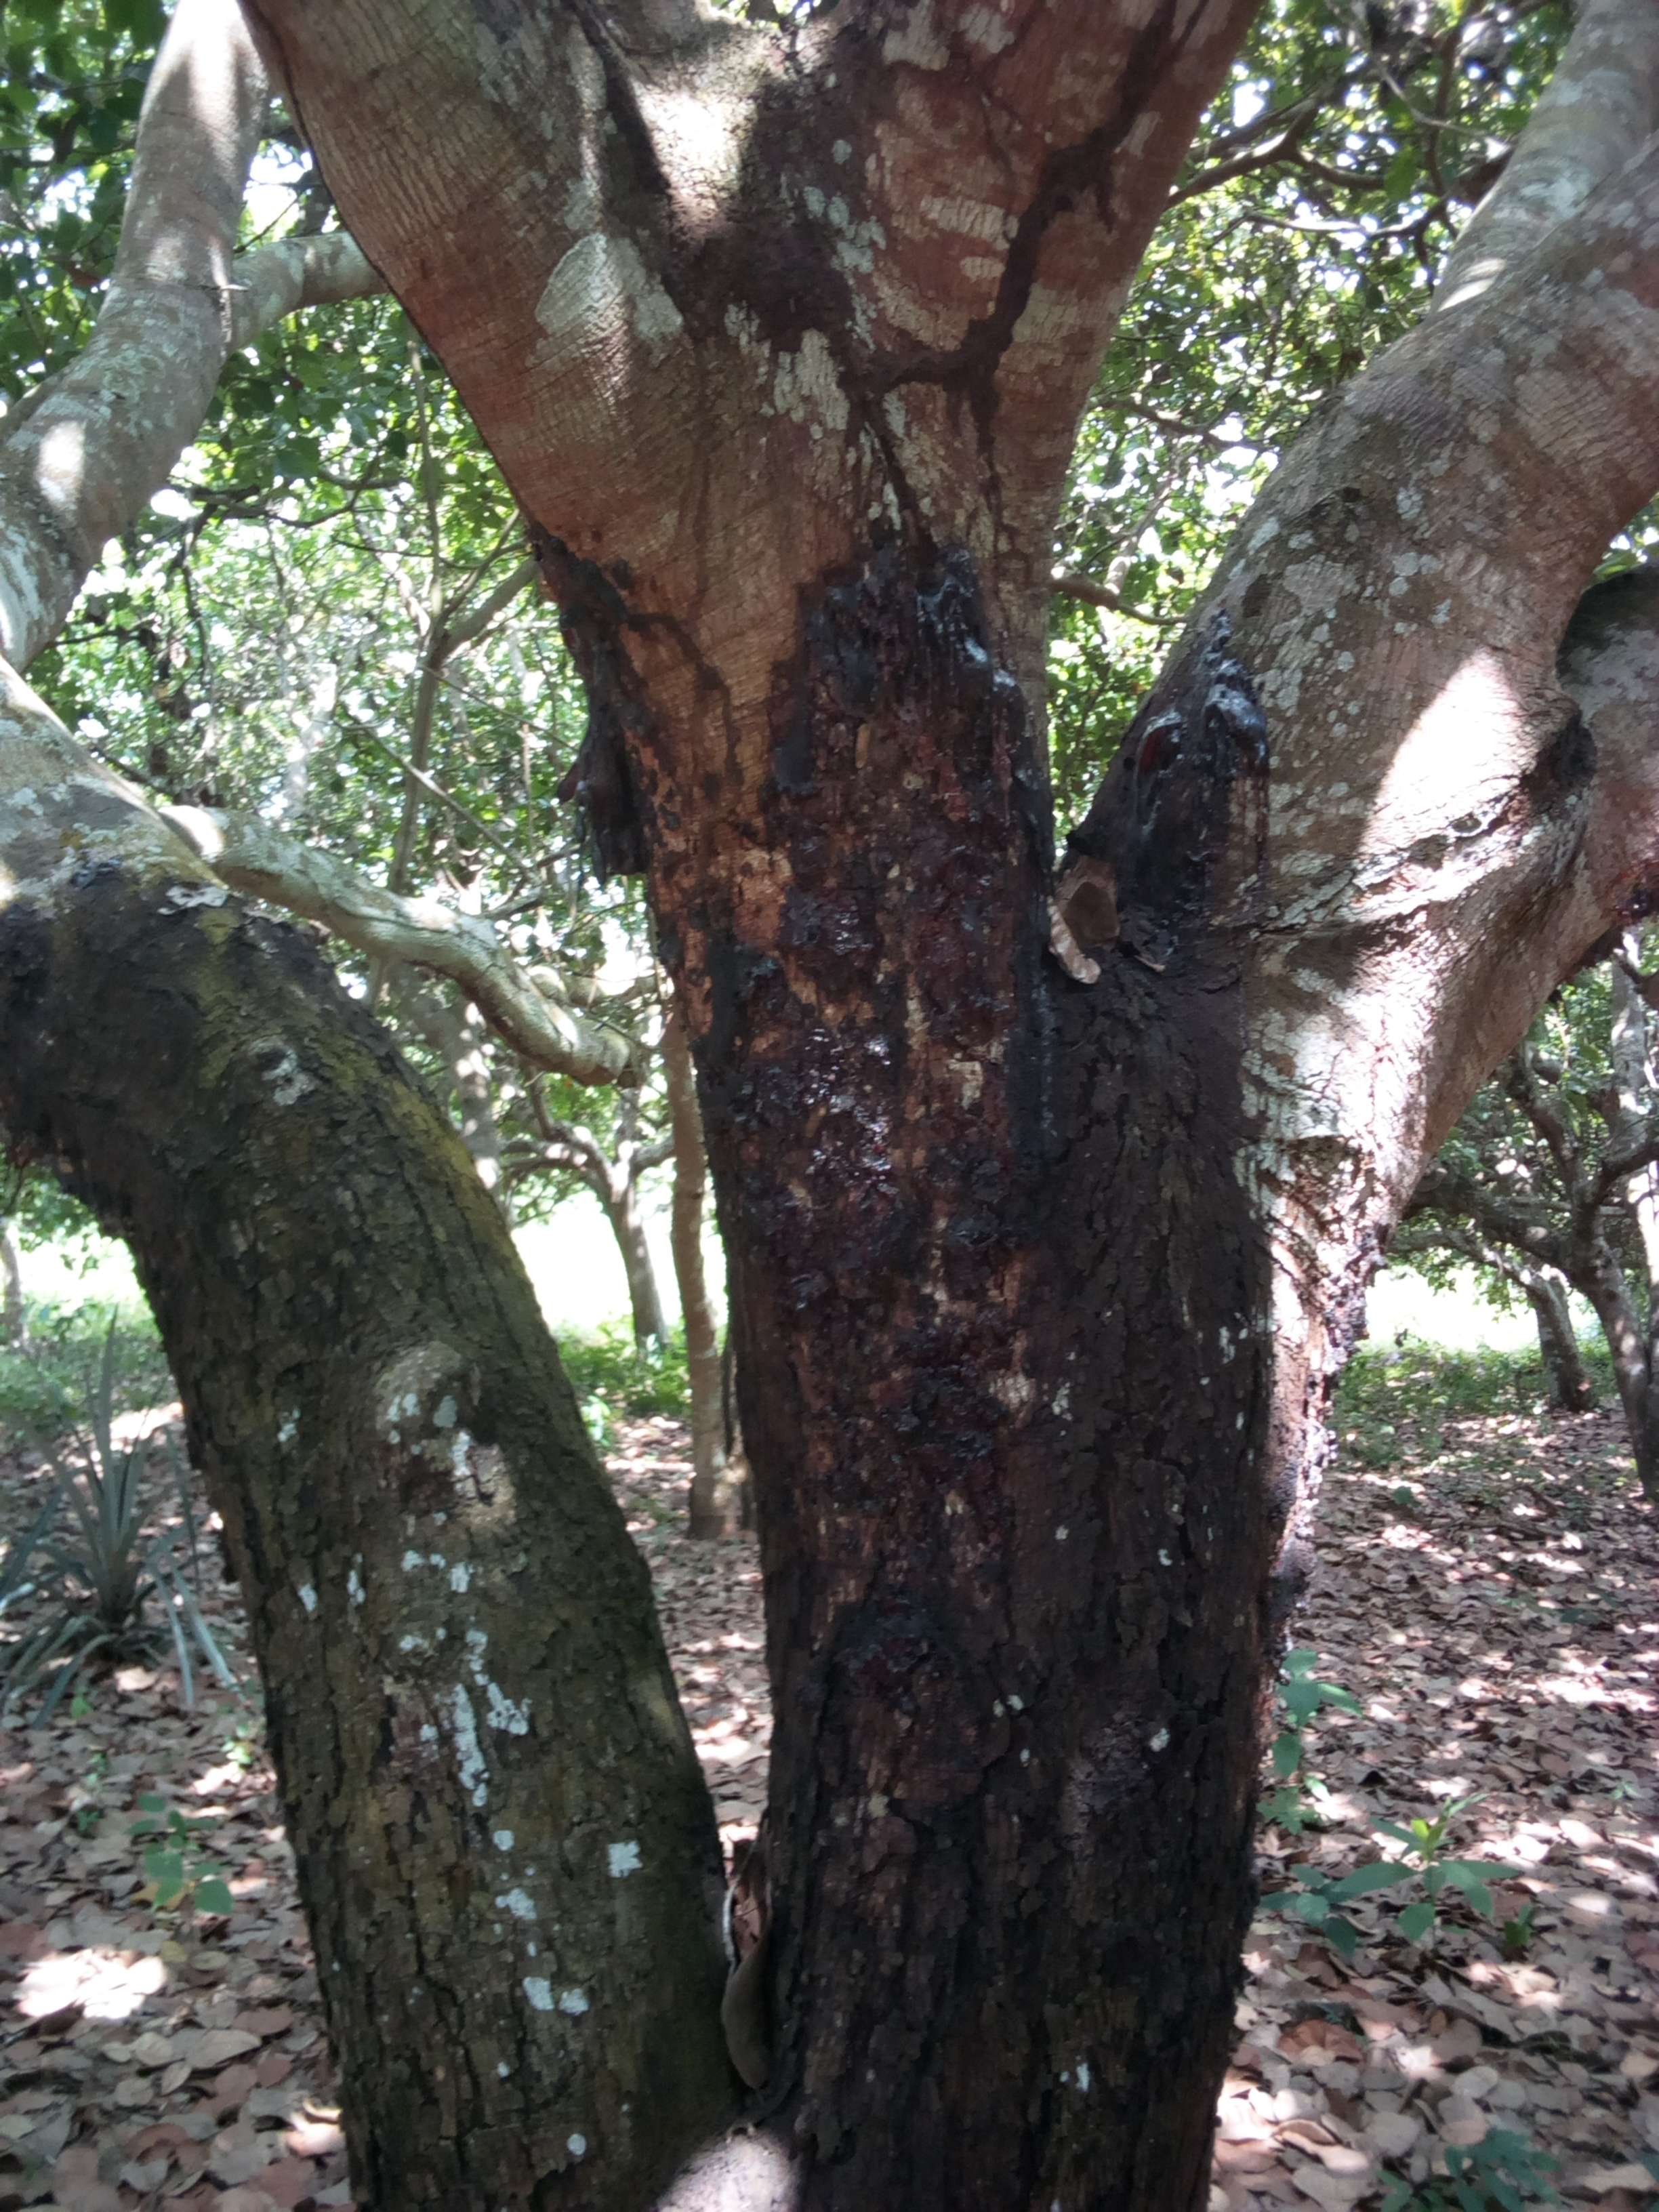Termites: (897, 31, 1164, 408)
